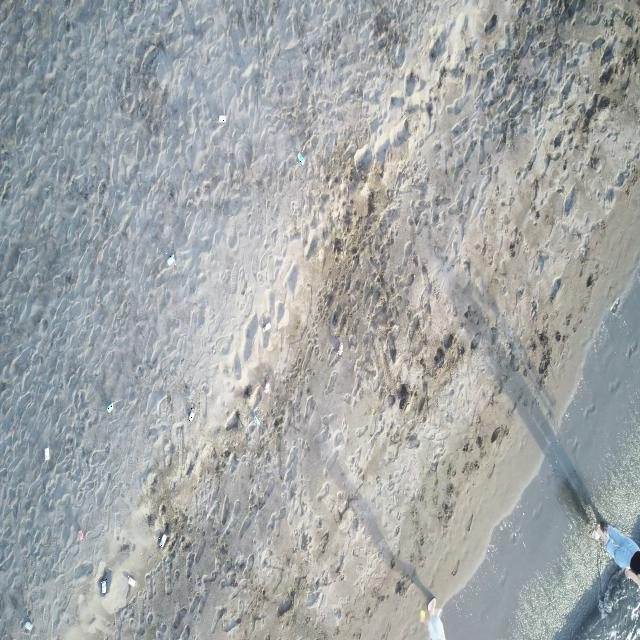Garbage: (420, 597, 444, 639), (548, 276, 560, 300), (99, 572, 108, 595), (609, 298, 619, 312), (251, 412, 260, 427), (159, 532, 167, 547), (127, 573, 135, 587), (100, 579, 107, 593), (591, 528, 599, 539), (76, 528, 83, 540), (263, 380, 270, 392), (169, 253, 175, 266), (24, 620, 31, 631), (296, 152, 303, 163), (420, 608, 426, 620), (337, 343, 343, 355), (187, 407, 192, 420), (218, 115, 226, 123), (264, 323, 271, 332), (105, 402, 111, 412), (44, 447, 48, 460)
